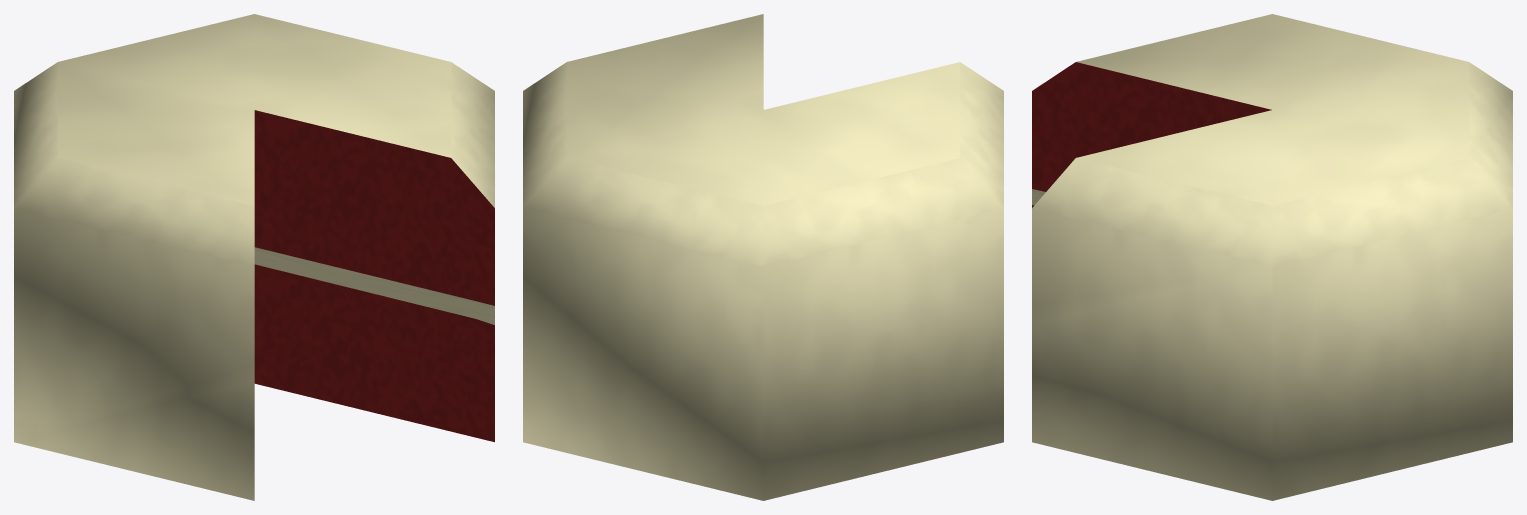
File: Cake_Sliced_B.FBX
3 views of the same model, side by side, from view 1: azimuth 30°, elevation 25°; view 2: azimuth 150°, elevation 25°; view 3: azimuth 270°, elevation 25° (orthographic).
Parts seen in each view (by area): view 1: Cake_E; view 2: Cake_E; view 3: Cake_E.
Part boxes in pixels (bbox=[...]): Cake_E: bbox=[14, 14, 494, 500]; Cake_E: bbox=[523, 14, 1003, 500]; Cake_E: bbox=[1032, 14, 1512, 500].
Bounding box in the file's own units: 102 × 55.58 × 88.51.
